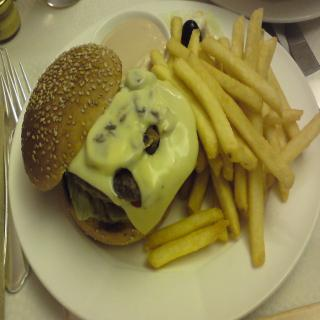French fries: (143, 5, 320, 270)
